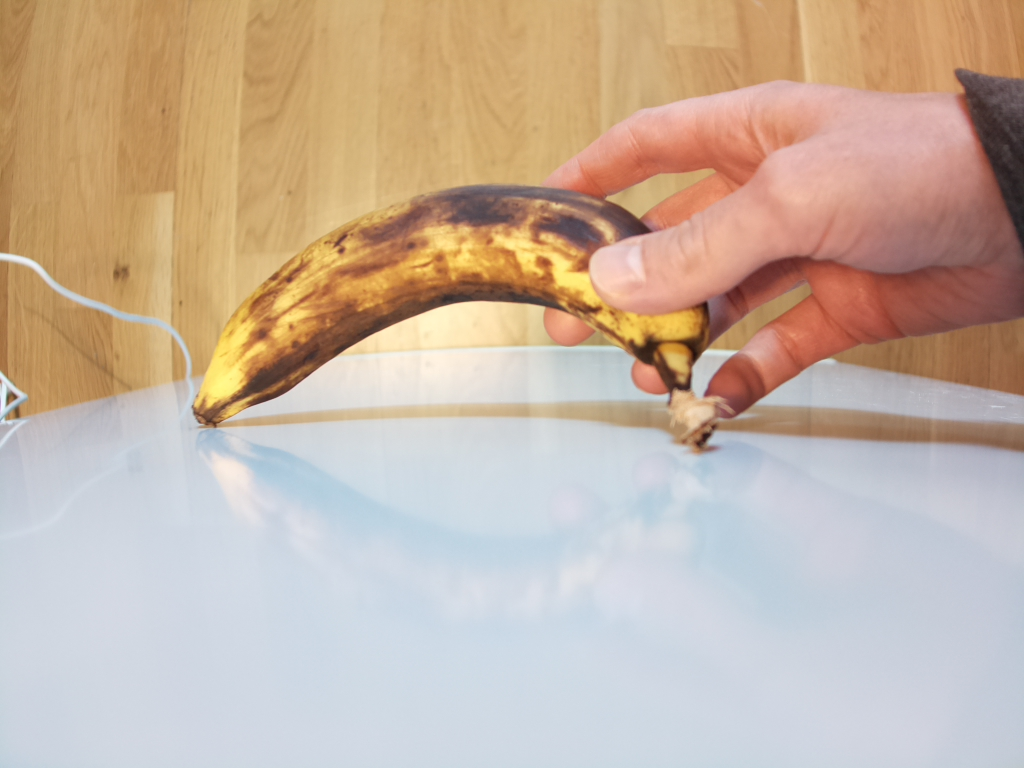banana-overripe: (191, 184, 724, 452)
